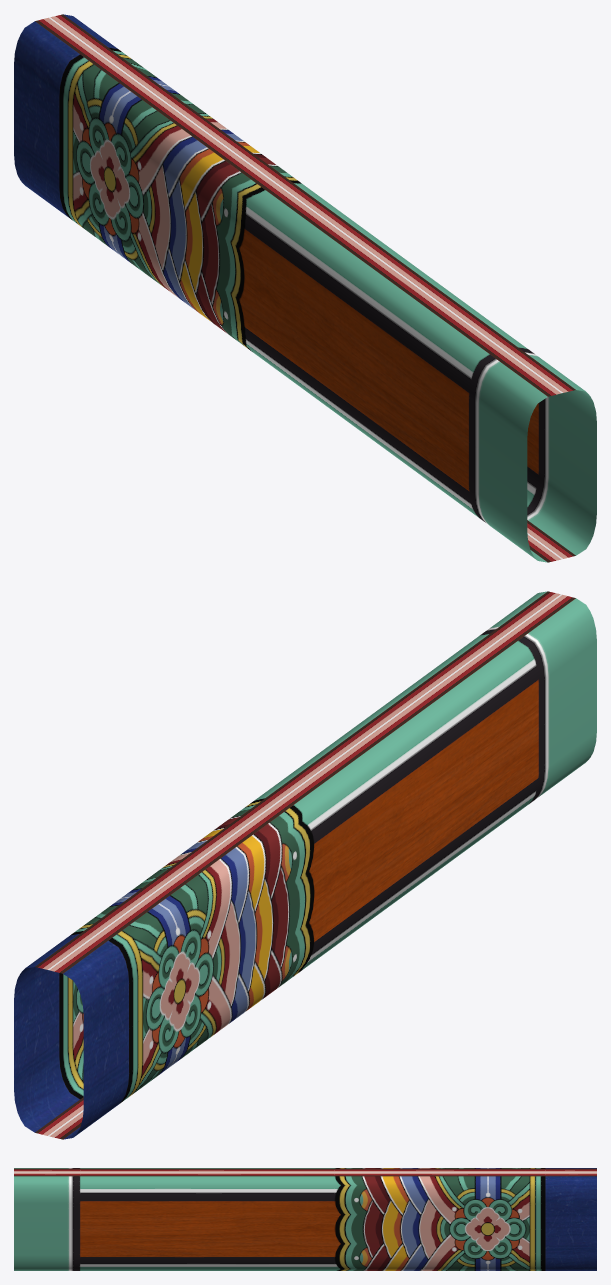
File: SM_Beam08N.fbx
The picture shows the model from 3 angles, top to bottom: view 1: azimuth 30°, elevation 25°; view 2: azimuth 150°, elevation 25°; view 3: azimuth 270°, elevation 25°; orthographic projection. The views are drawn at different scales.
Parts seen in each view (by area): view 1: SM_Beam08N; view 2: SM_Beam08N; view 3: SM_Beam08N.
Boxes of the visible parts, box(x1,y1,x2,y2) form: SM_Beam08N: box(14, 14, 596, 562); SM_Beam08N: box(14, 591, 596, 1139); SM_Beam08N: box(14, 1168, 596, 1270).
Size of the model in its own units: 16.7 by 213 by 37.99.
